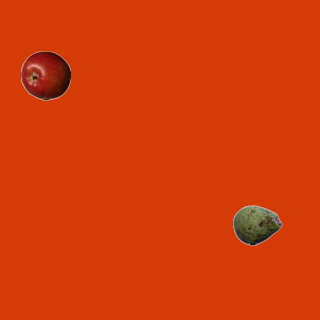Apple Braeburn: (20, 50, 70, 100)
Pear Stone: (232, 200, 282, 250)
